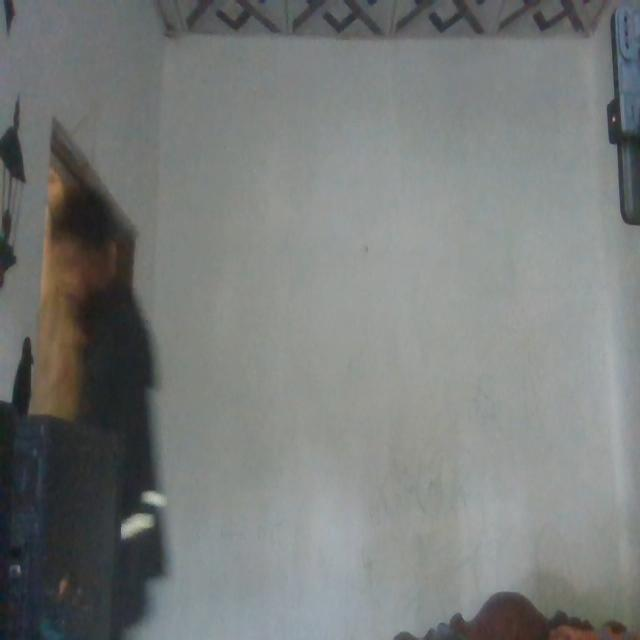Jacket_Wearer: (76, 290, 164, 569)
Person: (42, 183, 166, 631)
